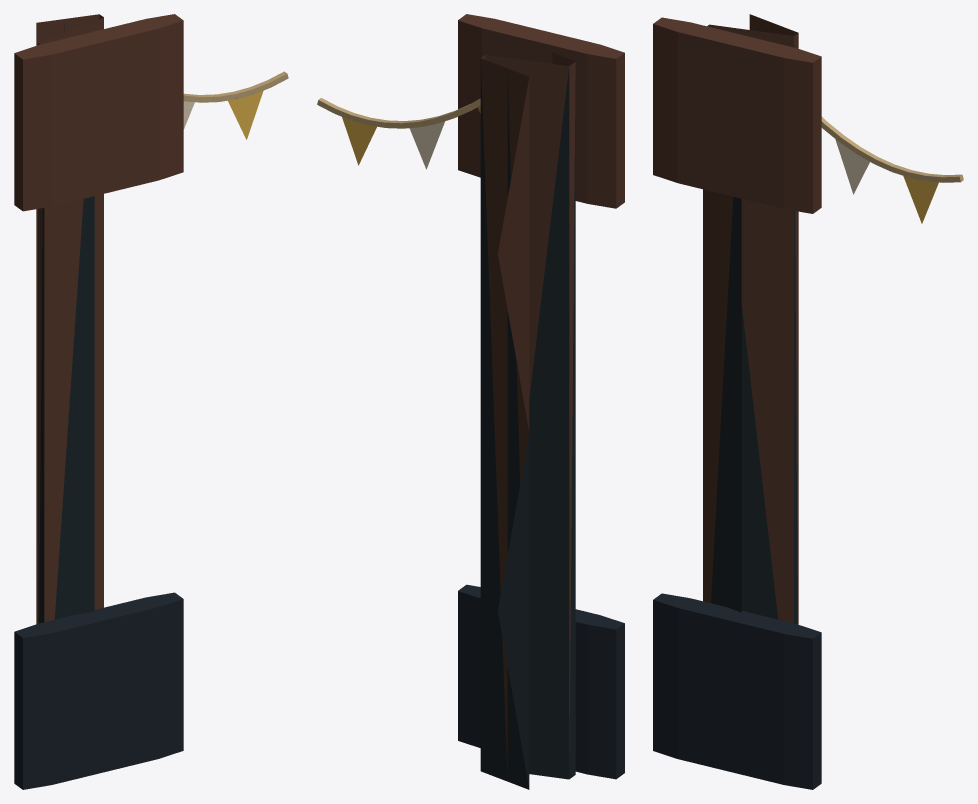
The model's file is mast-butter.glb.
3 views of the same model, side by side, from view 1: azimuth 30°, elevation 25°; view 2: azimuth 150°, elevation 25°; view 3: azimuth 330°, elevation 25° (orthographic).
Visible parts, largest first — view 1: mast-butter; view 2: mast-butter; view 3: mast-butter.
Part boxes in pixels (x1,y1,x2,y2): mast-butter: (14,14,288,789); mast-butter: (317,14,624,789); mast-butter: (653,14,963,789).
Size of the model in its own units: 1.5 by 3.65 by 0.46.
